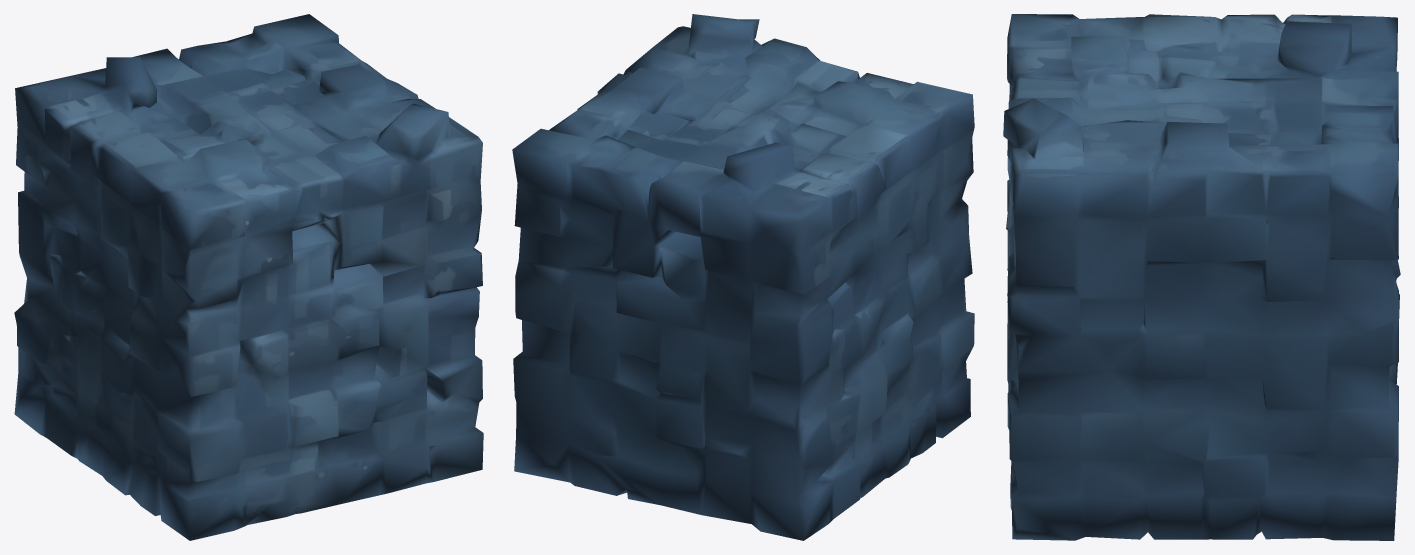
Rendered from Wall_C1_C.glb.
3 views of the same model, side by side, from view 1: azimuth 30°, elevation 25°; view 2: azimuth 150°, elevation 25°; view 3: azimuth 270°, elevation 25° (orthographic). The views are drawn at different scales.
Parts seen in each view (by area): view 1: tripo_node_8b376ddc-c48e-4710-9306-da03513186fe; view 2: tripo_node_8b376ddc-c48e-4710-9306-da03513186fe; view 3: tripo_node_8b376ddc-c48e-4710-9306-da03513186fe.
Boxes of the visible parts, left/top/right/bottom form: tripo_node_8b376ddc-c48e-4710-9306-da03513186fe: left=14, top=14, right=483, bottom=540; tripo_node_8b376ddc-c48e-4710-9306-da03513186fe: left=512, top=14, right=974, bottom=540; tripo_node_8b376ddc-c48e-4710-9306-da03513186fe: left=1003, top=14, right=1400, bottom=540.
Bounding box in the file's own units: 0.8683 × 1 × 0.9014.
1 material, 1 textured.
